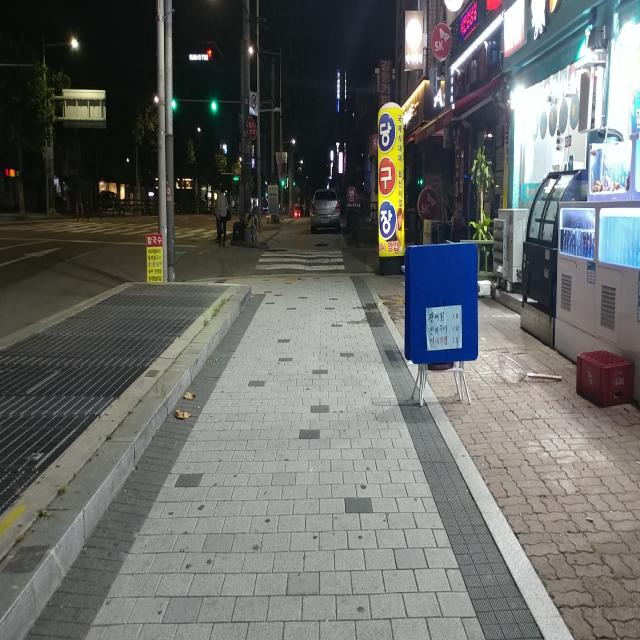횡단보도: (254, 248, 345, 271), (29, 220, 144, 231), (177, 228, 211, 240)
